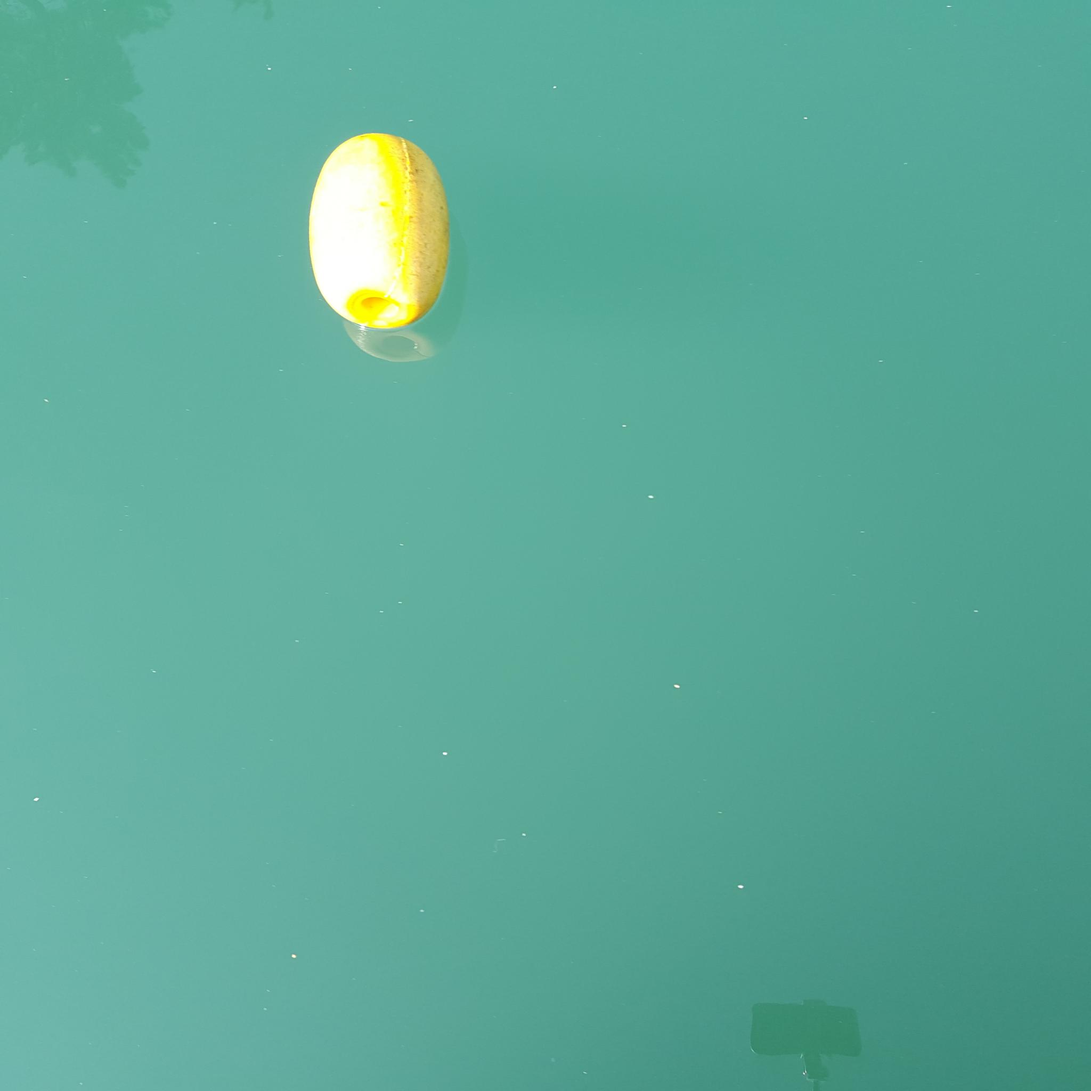sampah_terapung: (308, 133, 450, 330)
